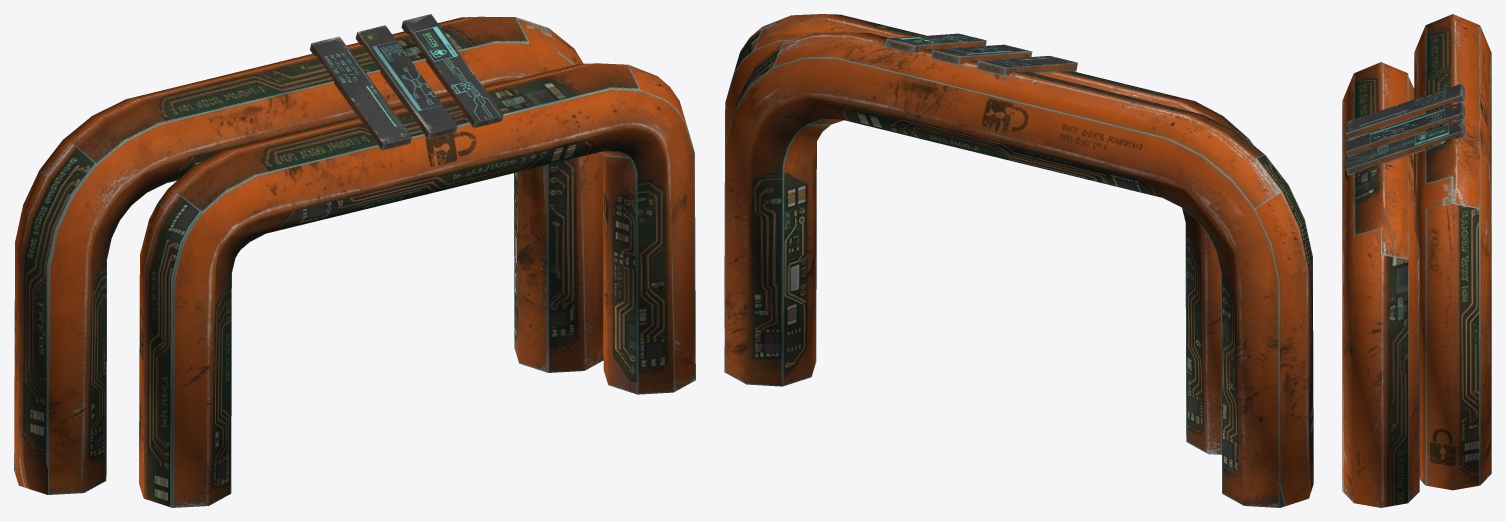
The model's file is pipes.glb.
3 renders of one model, left to right at view 1: azimuth 30°, elevation 25°; view 2: azimuth 150°, elevation 25°; view 3: azimuth 270°, elevation 25°, orthographic. The views are drawn at different scales.
Visible parts, largest first — view 1: Plane; view 2: Plane; view 3: Plane.
Boxes of the visible parts, x1,y1,x2,y2 form: Plane: (14,14,695,507); Plane: (724,14,1313,507); Plane: (1342,14,1491,507).
Bounding box in the file's own units: 3.14 × 1.74 × 0.7985.
Materials: 1 (1 with a texture image).
